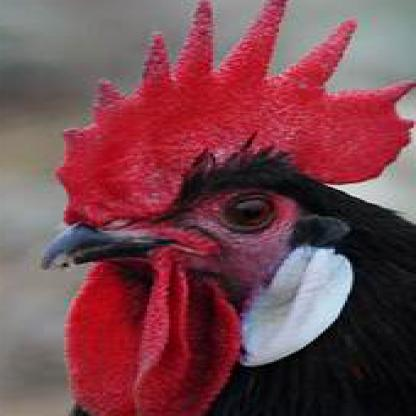chicken: (34, 0, 414, 415)
